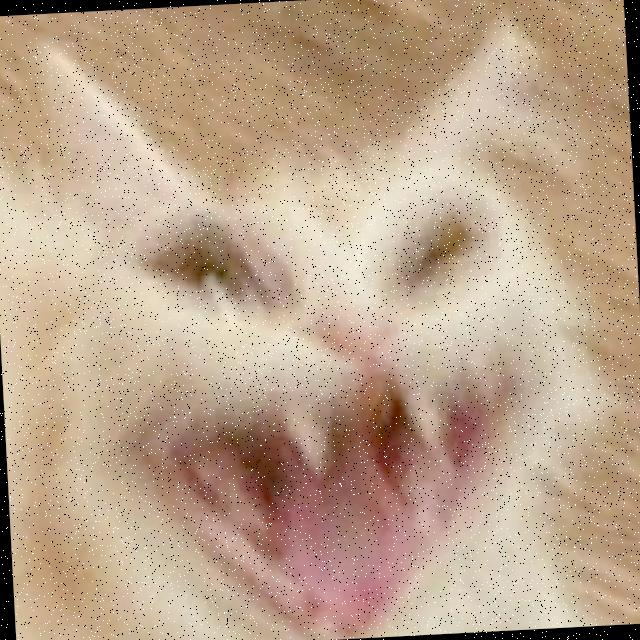Angry: (44, 169, 581, 640)
